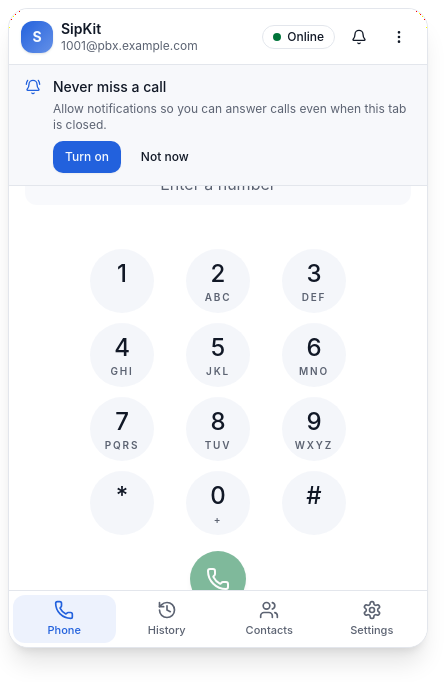
Scenario: push UI › dismissing the prompt hides it for good
The width and height of the screenshot is (445, 682).
Click the button "Not now" at (165, 157), box [129, 141, 201, 173]
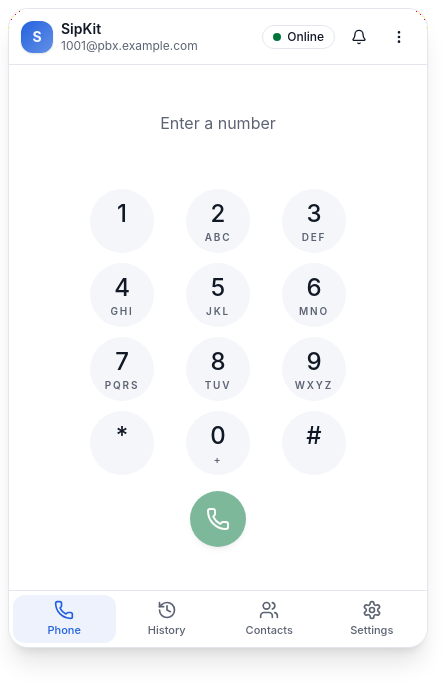
Now the element with test id "push-prompt" is gone
